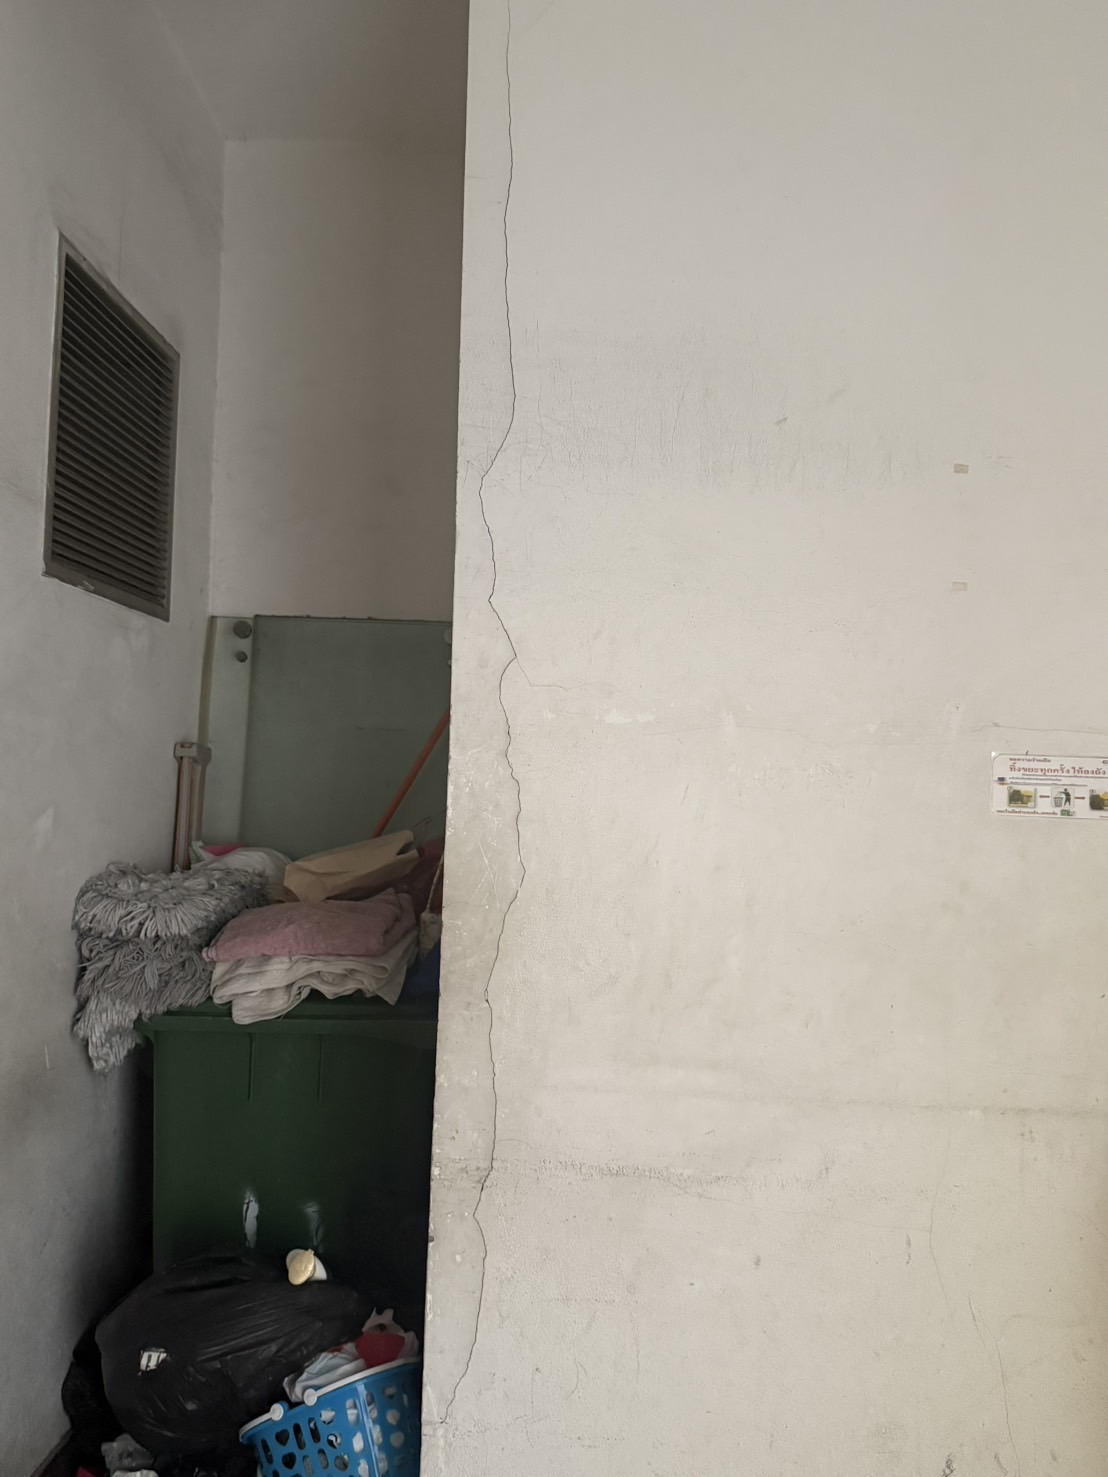Low: (454, 19, 544, 1436)
